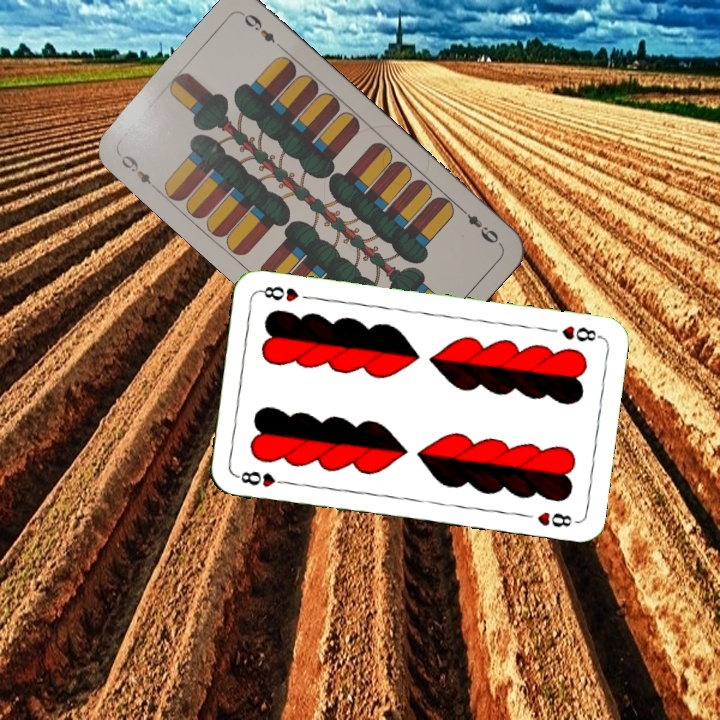E9: (455, 203, 503, 247), (117, 150, 154, 187)
H8: (232, 467, 291, 489), (557, 322, 603, 345)
